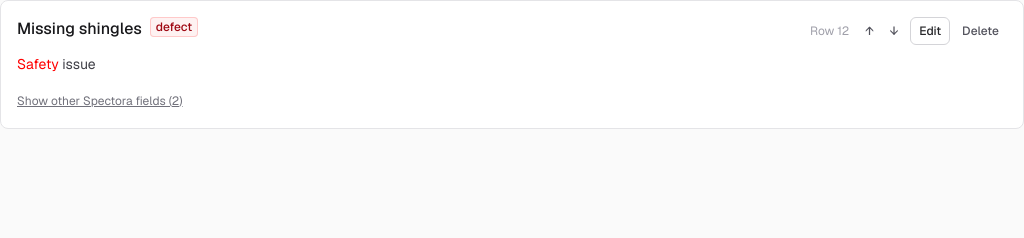
Test case: CommentCard — viewing › shows title, type, source row, rendered text and hidden Spectora fields
Check: the heading "Missing shingles" is shown, box 17,17 -> 142,41
Check: the text "defect" is shown, box 150,17 -> 198,37
Click the button "Show other Spectora fields (2)". click: {"x": 100, "y": 101}
box: 17,93 -> 183,109
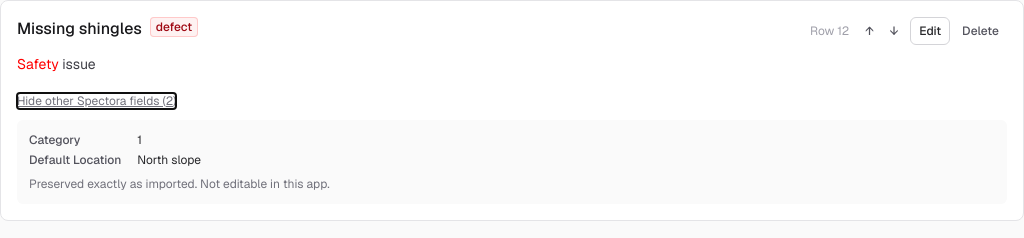
Check: the text "North slope" is shown, box 137,152 -> 201,168
Check: the text "Preserved exactly as imported. Not editable in this app." is shown, box 29,176 -> 330,192
